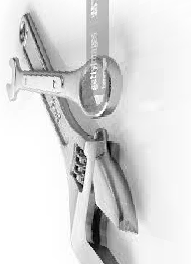Wrench: (8, 15, 150, 264)
